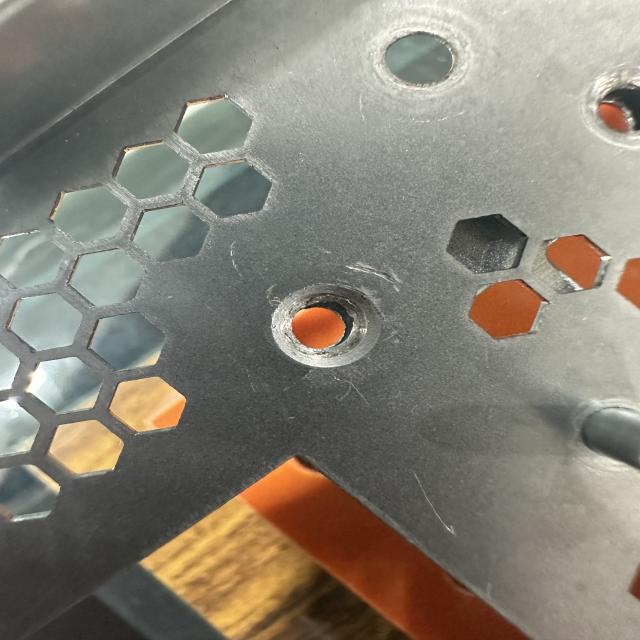Missing screw: (258, 276, 395, 382)
